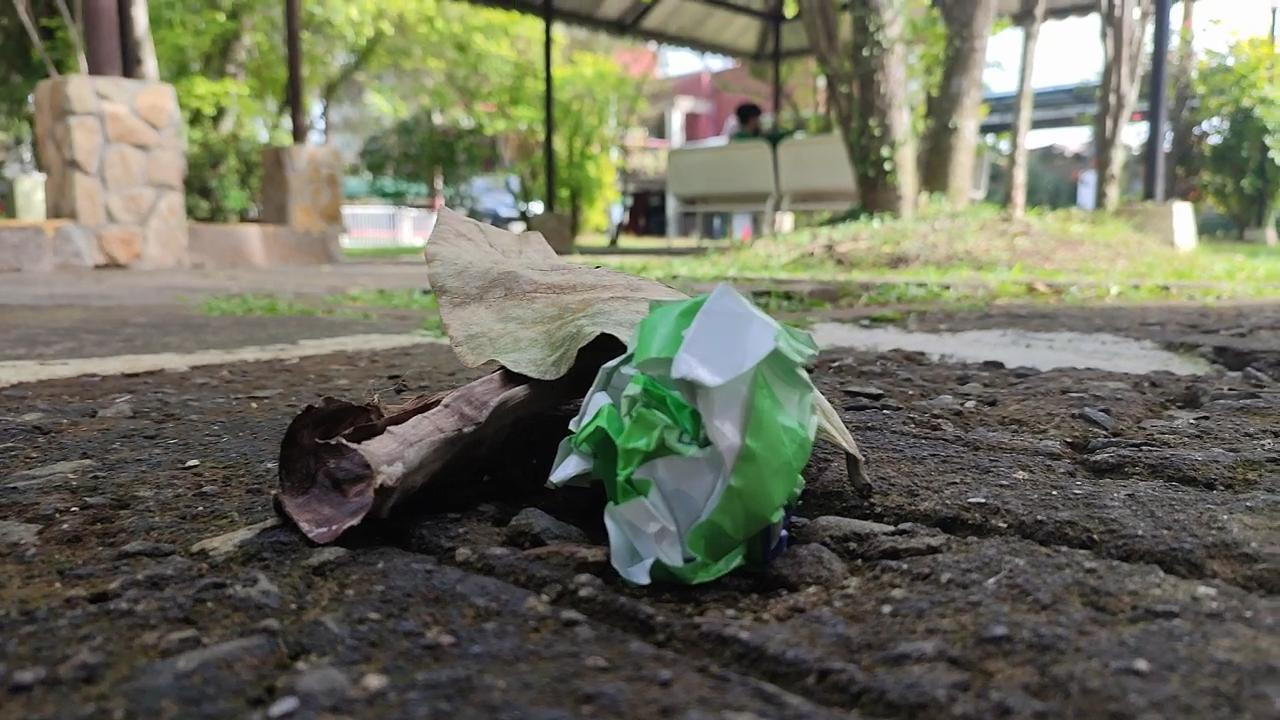Paper: (513, 265, 827, 596)
